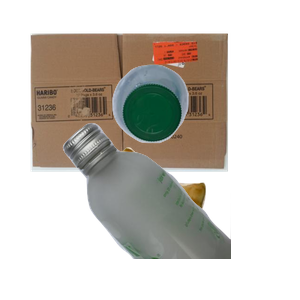cardboard: (28, 31, 249, 195)
glass: (60, 120, 300, 300)
plastic: (110, 62, 300, 198)
trash: (96, 145, 295, 300)
